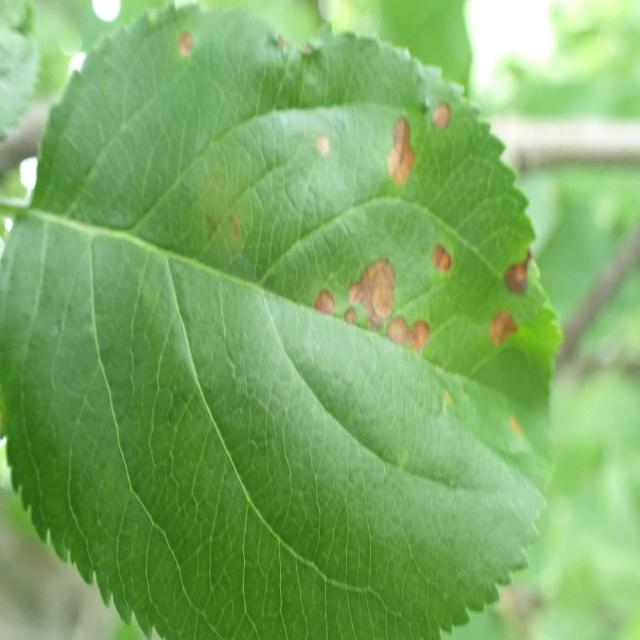Black Rot: (300, 247, 432, 376), (368, 95, 426, 198), (290, 123, 346, 205), (153, 0, 212, 66), (496, 245, 544, 308), (414, 79, 461, 130), (430, 237, 470, 290), (484, 300, 522, 354)
